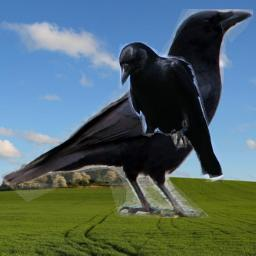Crow: (1, 9, 253, 218), (117, 41, 224, 185)
